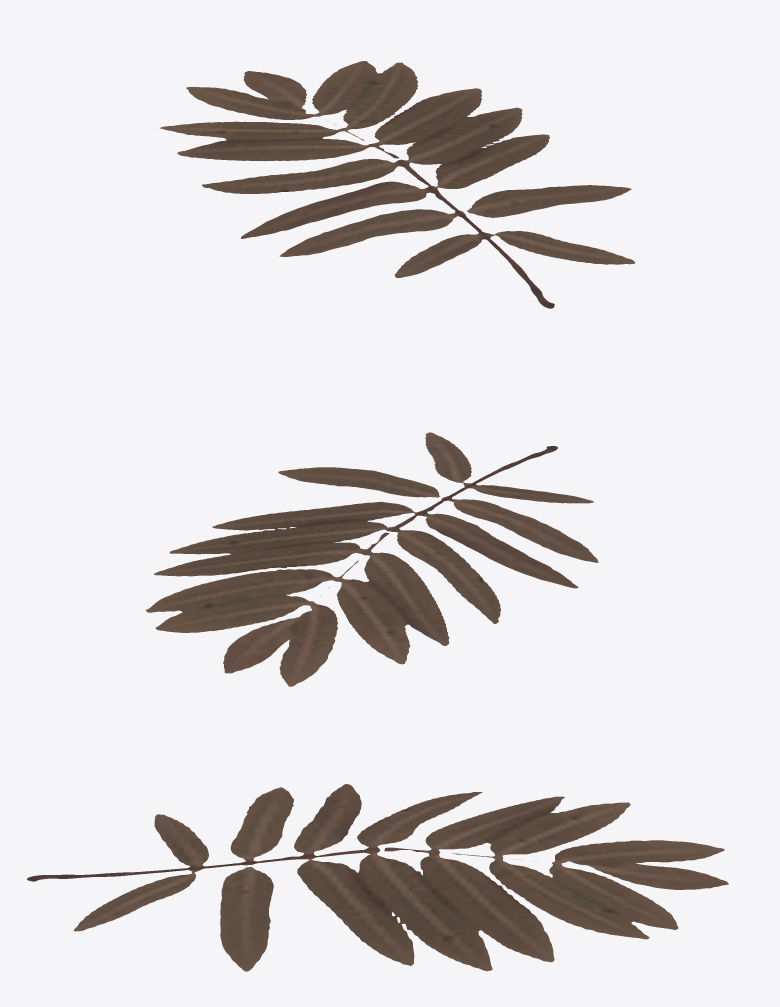
File: arden_forest_ash_tree_leaves_02_foliage.fbx
The picture shows the model from 3 angles, top to bottom: view 1: azimuth 30°, elevation 25°; view 2: azimuth 150°, elevation 25°; view 3: azimuth 270°, elevation 25°; orthographic projection. The views are drawn at different scales.
Parts seen in each view (by area): view 1: arden_forest_ash_tree_leaves_02_foliage; view 2: arden_forest_ash_tree_leaves_02_foliage; view 3: arden_forest_ash_tree_leaves_02_foliage.
Boxes of the visible parts, x1,y1,x2,y2 form: arden_forest_ash_tree_leaves_02_foliage: [160, 61, 635, 308]; arden_forest_ash_tree_leaves_02_foliage: [146, 432, 598, 686]; arden_forest_ash_tree_leaves_02_foliage: [27, 784, 728, 971].
Size of the model in its own units: 35.7 by 2.64 by 50.97.
